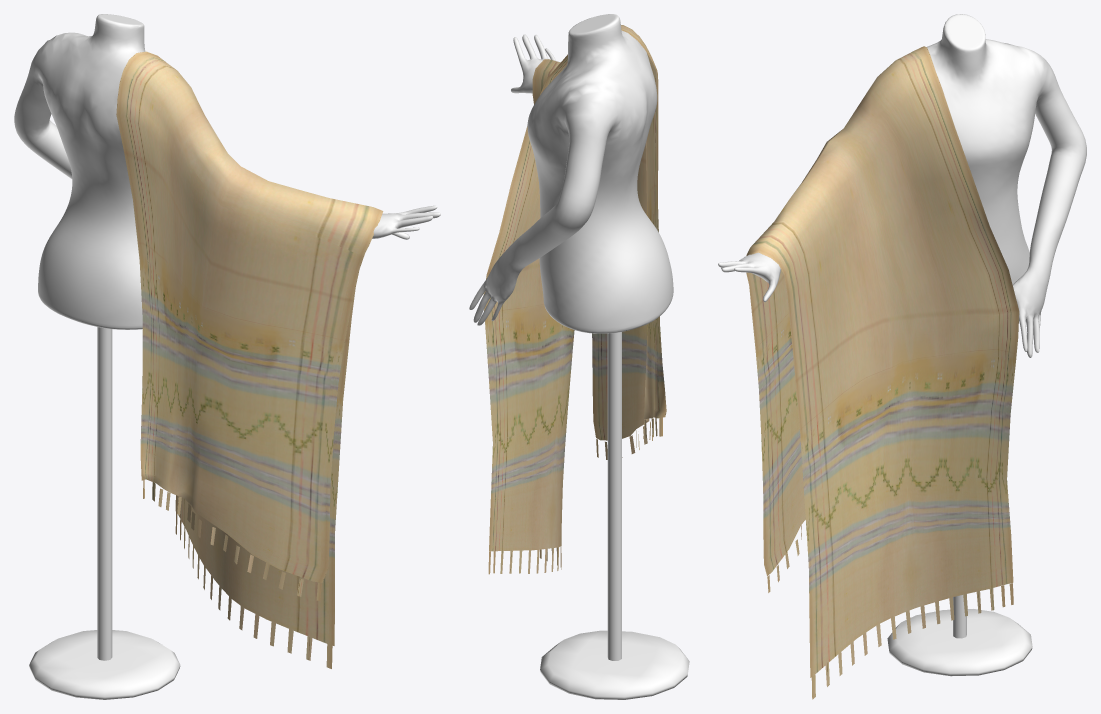
The model's file is shawl.glb.
The picture shows the model from 3 angles, left to right: view 1: azimuth 30°, elevation 25°; view 2: azimuth 150°, elevation 25°; view 3: azimuth 270°, elevation 25°; orthographic projection. The views are drawn at different scales.
Visible parts, largest first — view 1: mesh.001_kain.001_0, mesh.001_Mannequin_0; view 2: mesh.001_Mannequin_0, mesh.001_kain.001_0; view 3: mesh.001_kain.001_0, mesh.001_Mannequin_0.
Boxes of the visible parts, x1,y1,x2,y2 form: mesh.001_kain.001_0: (116, 51, 383, 668); mesh.001_Mannequin_0: (14, 14, 440, 699); mesh.001_Mannequin_0: (469, 14, 689, 699); mesh.001_kain.001_0: (483, 25, 666, 574); mesh.001_kain.001_0: (746, 46, 1019, 699); mesh.001_Mannequin_0: (718, 14, 1086, 676).
Size of the model in its own units: 70.74 by 156 by 82.78.
2 materials, 1 textured.
